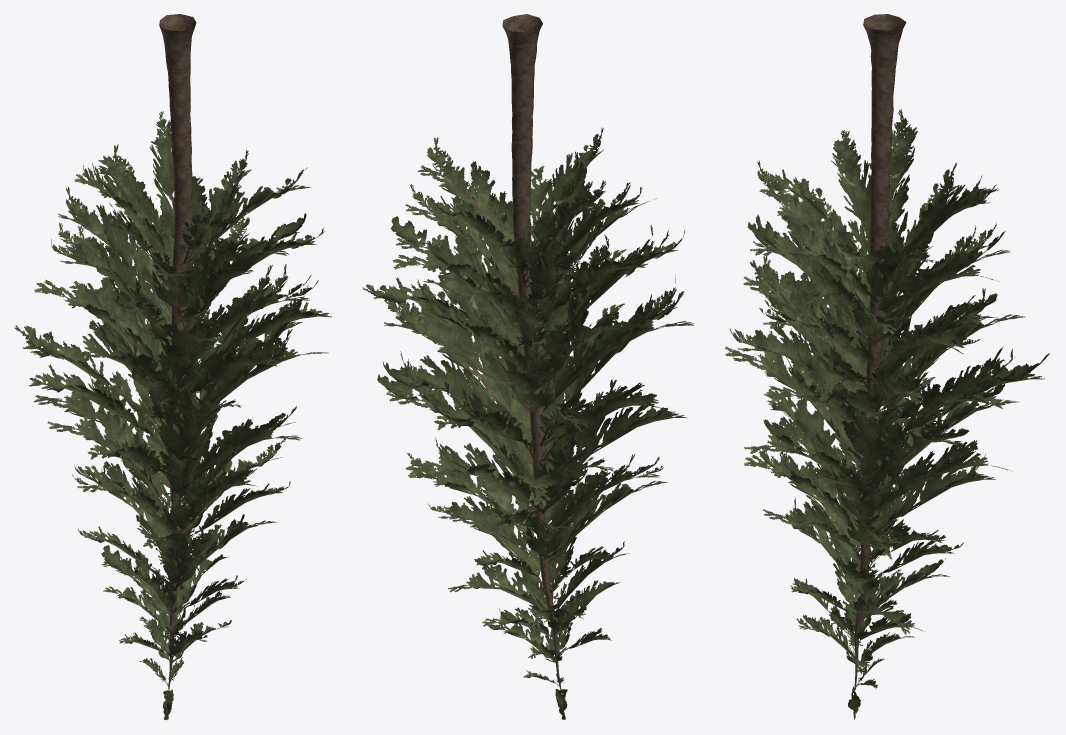
Rendered from BIO_VEG_SpruceTree_01E.fbx.
The picture shows the model from 3 angles, left to right: view 1: azimuth 30°, elevation 25°; view 2: azimuth 150°, elevation 25°; view 3: azimuth 270°, elevation 25°; orthographic projection. The views are drawn at different scales.
Visible parts, largest first — view 1: BIO_VEG_SpruceTree_01E; view 2: BIO_VEG_SpruceTree_01E; view 3: BIO_VEG_SpruceTree_01E.
Part boxes in pixels (left/top/right/bottom): BIO_VEG_SpruceTree_01E: left=14, top=14, right=331, bottom=719; BIO_VEG_SpruceTree_01E: left=362, top=14, right=694, bottom=719; BIO_VEG_SpruceTree_01E: left=725, top=14, right=1049, bottom=719.
Size of the model in its own units: 805 by 1943 by 812.
